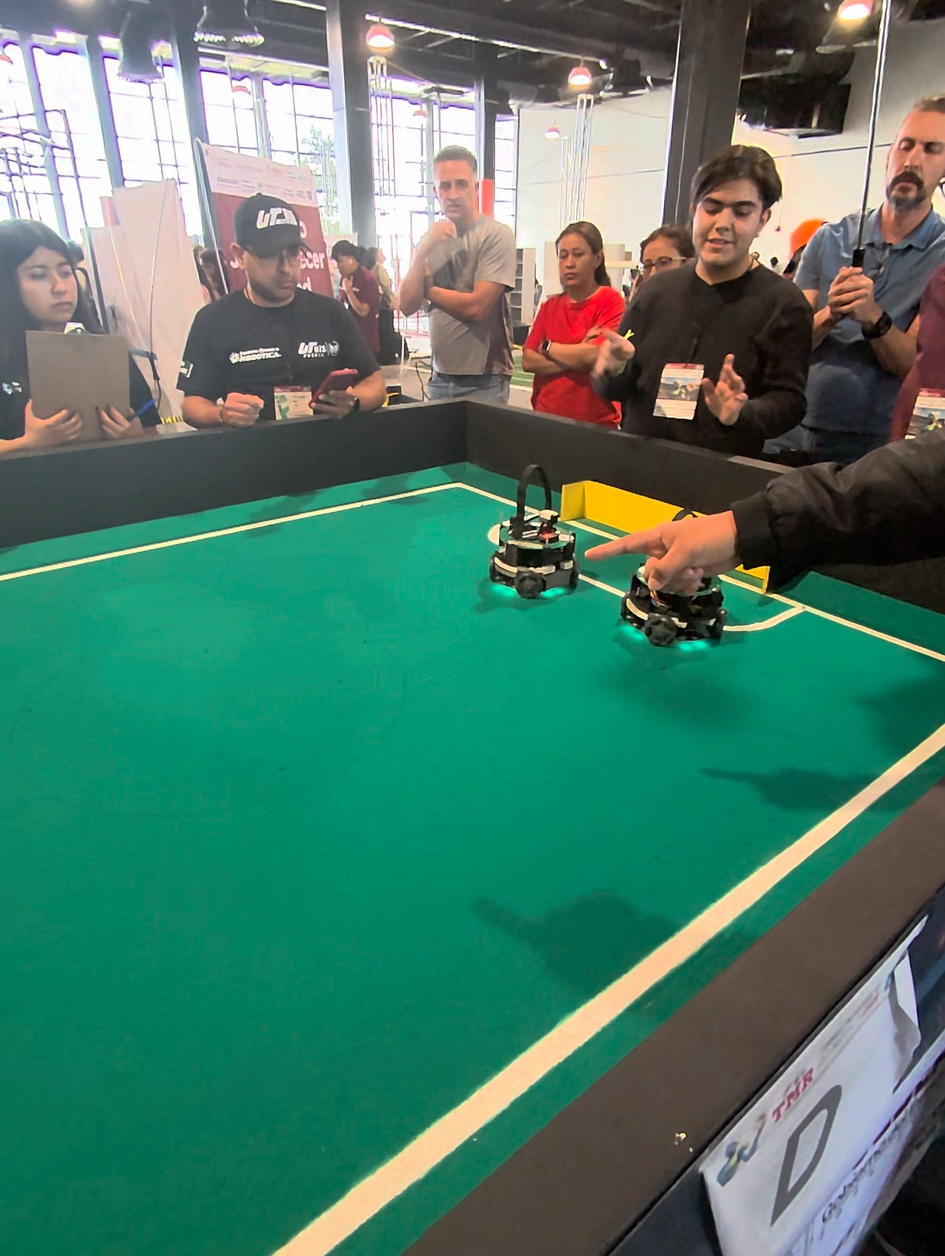Robot: (620, 523, 735, 663), (486, 463, 578, 610)
